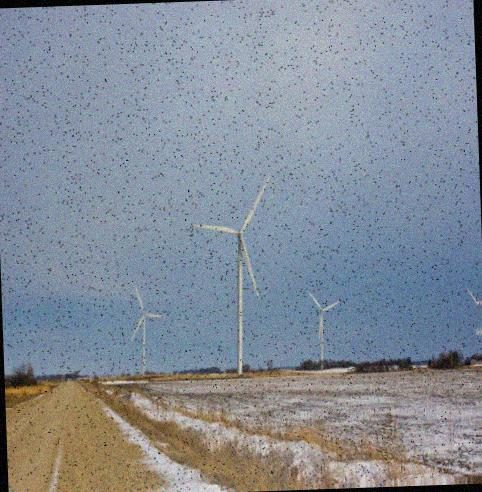wind turbine: (192, 171, 277, 372), (126, 288, 165, 370), (306, 290, 341, 367)
